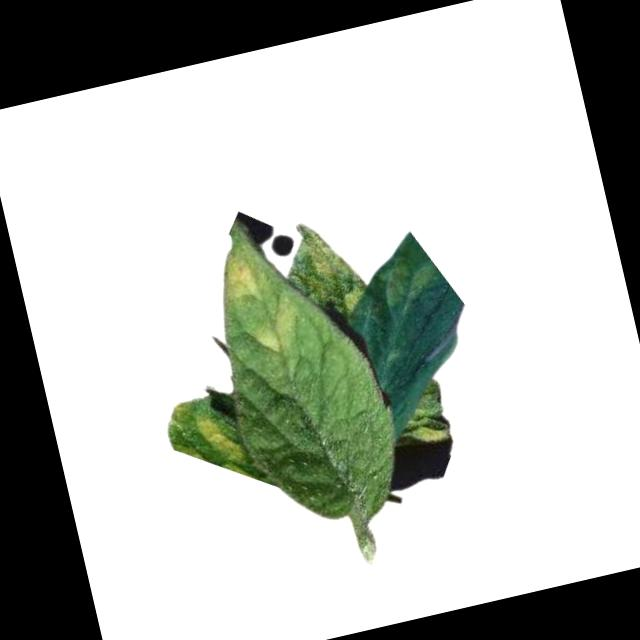Leaf_Mold: (292, 216, 371, 326), (165, 391, 248, 485), (370, 248, 441, 311), (209, 242, 269, 313), (243, 297, 301, 356), (411, 408, 452, 446)
